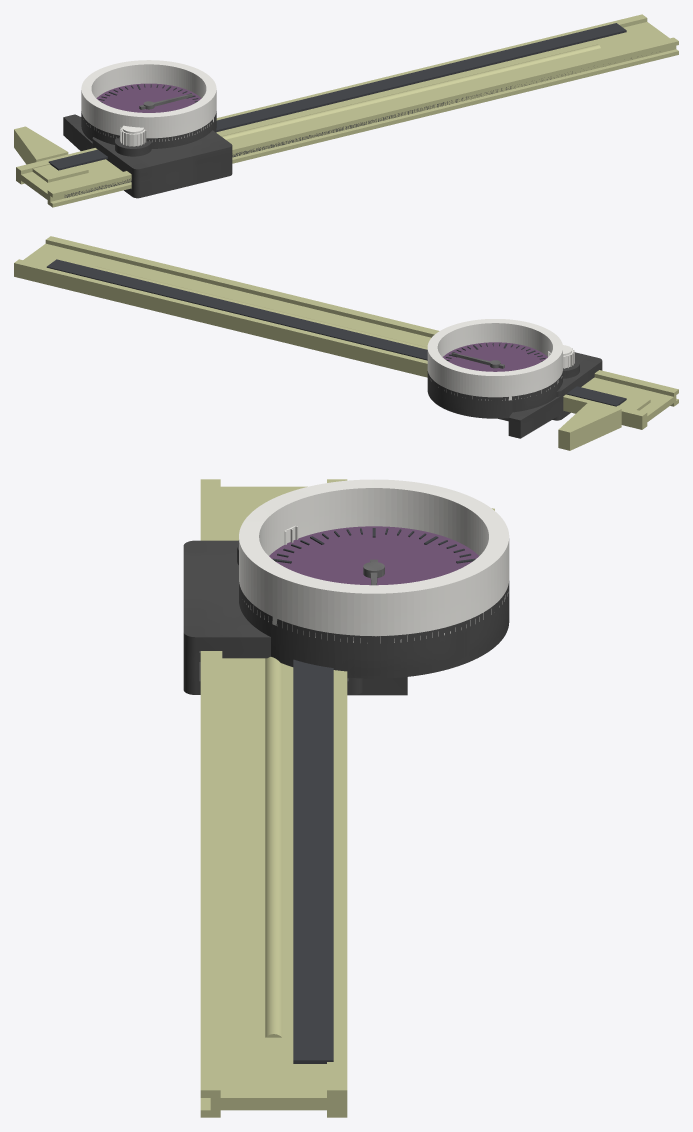
The model's file is Handtools_dial_caliper__0009.glb.
3 views of the same model, one above another, from view 1: azimuth 30°, elevation 25°; view 2: azimuth 150°, elevation 25°; view 3: azimuth 270°, elevation 25° (orthographic). The views are drawn at different scales.
Parts seen in each view (by area): view 1: beam::beam_body, slider::slider_body, slider::dial_bezel, beam::beam_scale, slider::dial_face, slider::depth_rod, beam::fixed_jaw, beam::guide_rail_mark, lock_screw::lock_screw_head, slider::lock_screw_boss; view 2: beam::beam_body, slider::dial_bezel, beam::beam_scale, slider::slider_body, beam::fixed_jaw, slider::dial_face, slider::depth_rod; view 3: beam::beam_body, slider::dial_bezel, slider::slider_body, beam::beam_scale, slider::dial_face, slider::depth_rod.
Part boxes in pixels (x1,y1,x2,y2): beam::beam_body: (16, 14, 678, 207); slider::slider_body: (63, 111, 232, 198); slider::dial_bezel: (81, 60, 216, 141); beam::beam_scale: (48, 23, 626, 170); slider::dial_face: (96, 83, 201, 112); slider::depth_rod: (221, 44, 600, 139); beam::fixed_jaw: (14, 126, 88, 182); beam::guide_rail_mark: (64, 58, 631, 197); lock_screw::lock_screw_head: (120, 125, 146, 146); slider::lock_screw_boss: (115, 138, 151, 156); beam::beam_body: (14, 236, 678, 429); slider::dial_bezel: (427, 319, 562, 400); beam::beam_scale: (46, 259, 626, 406); slider::slider_body: (427, 352, 602, 438); beam::fixed_jaw: (558, 389, 650, 450); slider::dial_face: (442, 342, 547, 371); slider::depth_rod: (93, 266, 427, 349); beam::beam_body: (200, 479, 347, 1117); slider::dial_bezel: (239, 479, 509, 643); slider::slider_body: (183, 540, 509, 695); beam::beam_scale: (293, 659, 333, 1063); slider::dial_face: (269, 526, 478, 585); slider::depth_rod: (265, 657, 282, 1037).
Bounding box in the file's own units: 0.2152 × 0.0205 × 0.0484.
8 materials, 3 textured.
